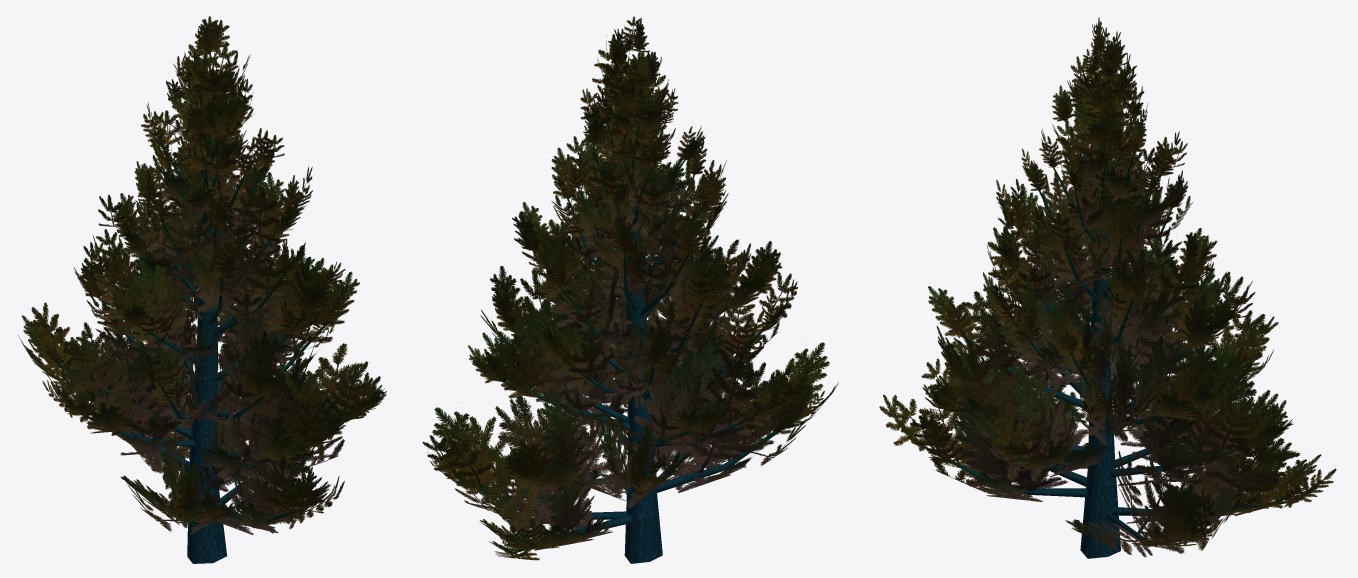
The model's file is Picea_Abies_F.glb.
The picture shows the model from 3 angles, left to right: view 1: azimuth 30°, elevation 25°; view 2: azimuth 150°, elevation 25°; view 3: azimuth 270°, elevation 25°; orthographic projection.
Visible parts, largest first — view 1: F_LOD0; view 2: F_LOD0; view 3: F_LOD0.
Boxes of the visible parts, left/top/right/bottom form: F_LOD0: left=18, top=16, right=386, bottom=563; F_LOD0: left=422, top=16, right=838, bottom=563; F_LOD0: left=879, top=17, right=1336, bottom=558.
Size of what is drawn, in the model's own units: 2.59 by 3.9 by 3.09.
Materials: 2 (2 with a texture image).
